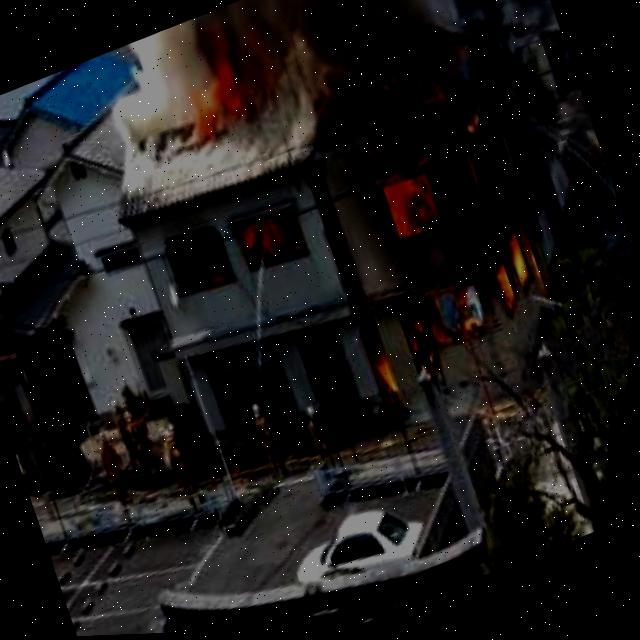Fire: (144, 15, 274, 155), (375, 169, 451, 252), (233, 198, 310, 277), (359, 336, 412, 421), (399, 313, 452, 387), (498, 231, 538, 296), (493, 267, 525, 317)
Smoke: (81, 0, 463, 223)
